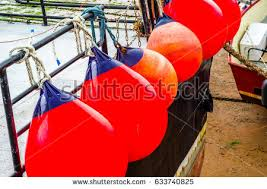buoy: (78, 58, 170, 160), (25, 99, 130, 179), (162, 1, 226, 60), (143, 22, 202, 77), (128, 48, 178, 110)
